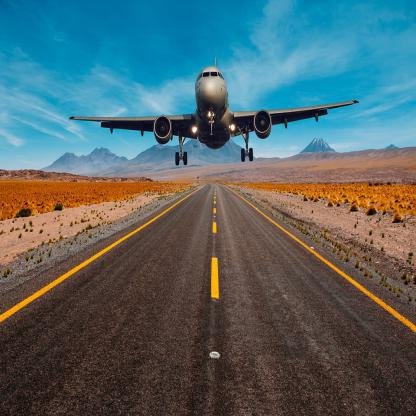CIV_Plane: (63, 54, 360, 174)
